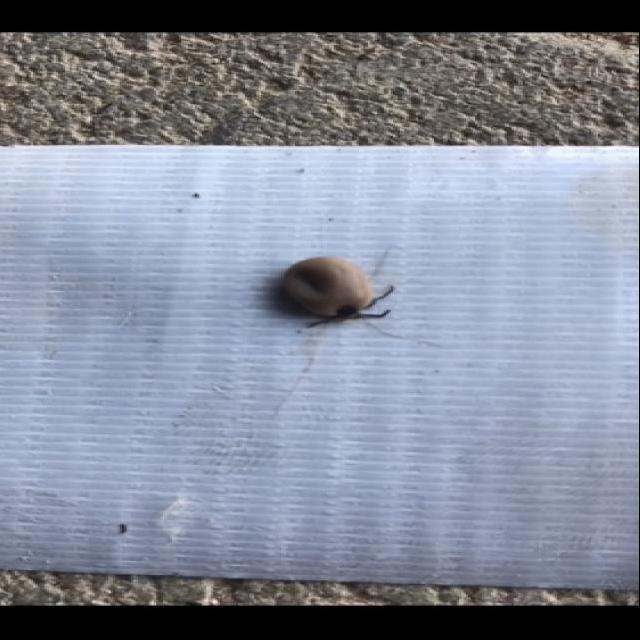Ixodes Ricinus-F-Fed: (271, 256, 394, 328)
